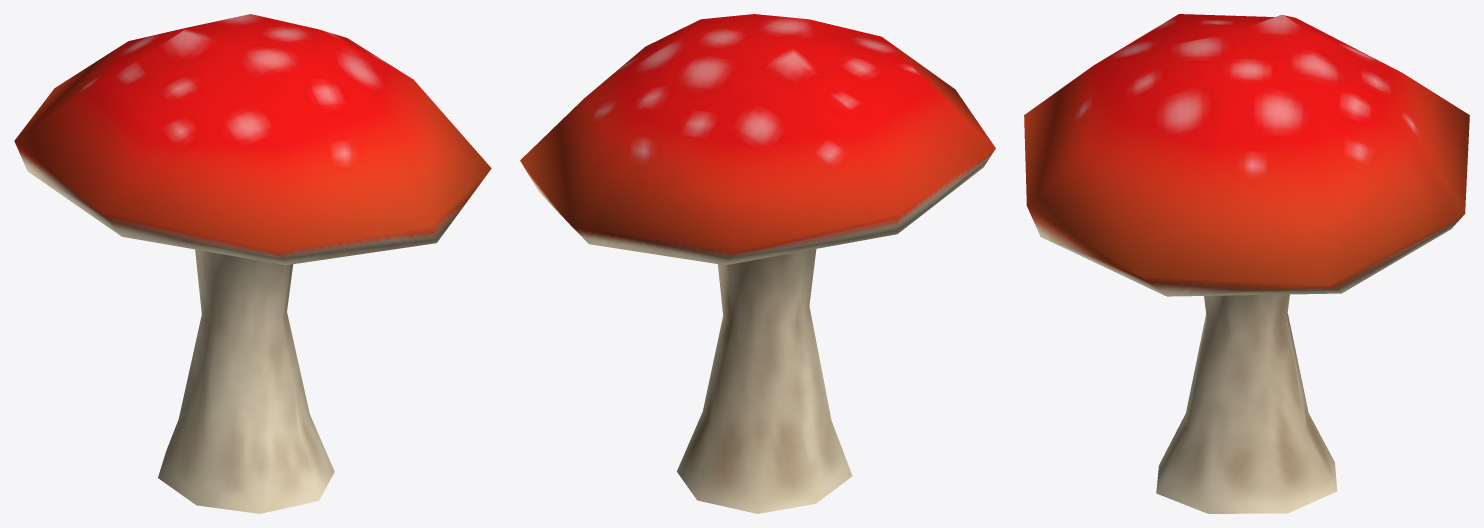
Rendered from SM_Mushroom_02.glb.
3 views of the same model, side by side, from view 1: azimuth 30°, elevation 25°; view 2: azimuth 150°, elevation 25°; view 3: azimuth 270°, elevation 25° (orthographic).
Visible parts, largest first — view 1: SM_Mushroom_02; view 2: SM_Mushroom_02; view 3: SM_Mushroom_02.
Part boxes in pixels (x1,y1,x2,y2): SM_Mushroom_02: [14, 14, 491, 513]; SM_Mushroom_02: [520, 14, 995, 513]; SM_Mushroom_02: [1024, 14, 1469, 513].
Bounding box in the file's own units: 0.2043 × 0.2187 × 0.1997.
Materials: 1 (1 with a texture image).
